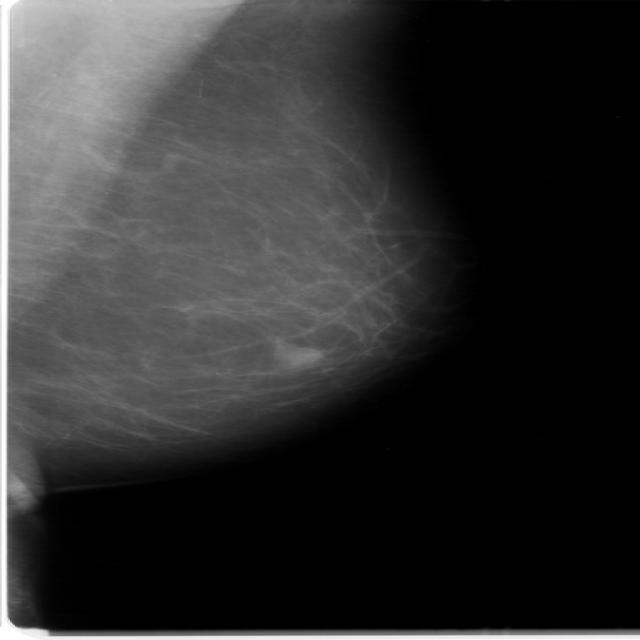tumour: (271, 342, 320, 366)
